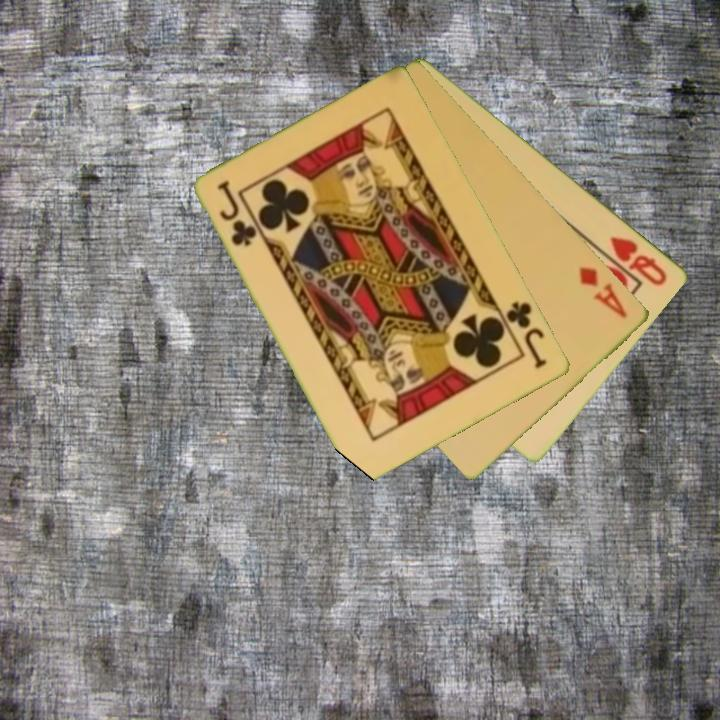Ad: (576, 263, 631, 321)
Jc: (496, 298, 550, 372), (214, 177, 260, 250)
Qh: (607, 232, 671, 289)
